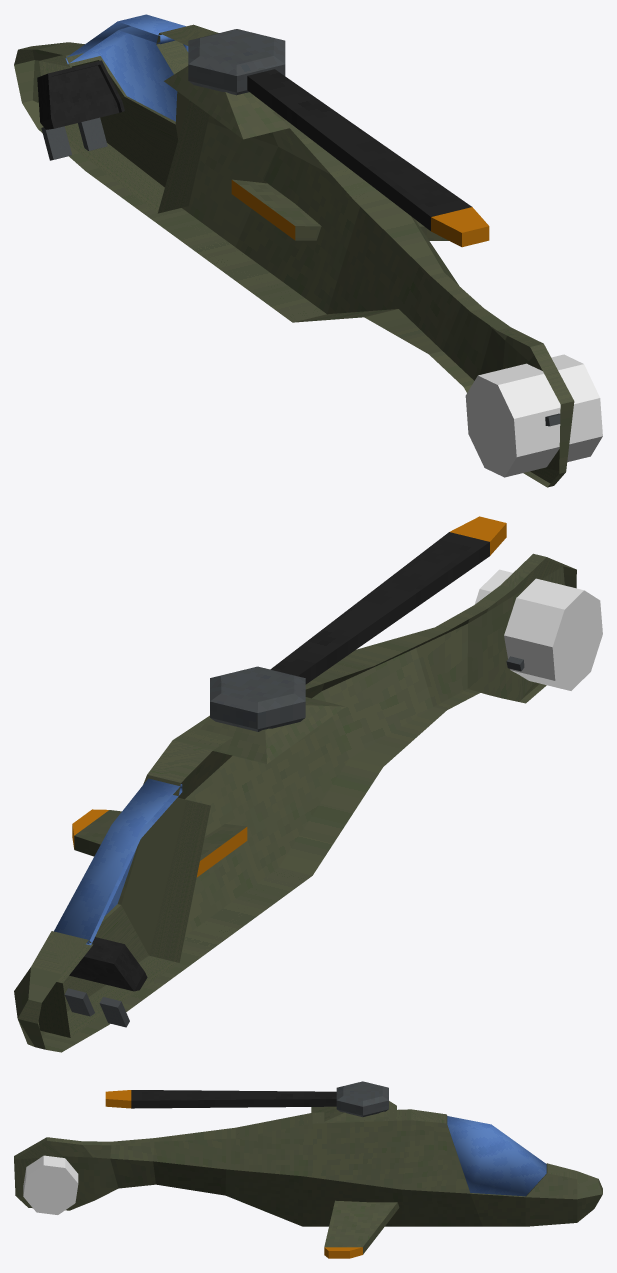
File: Helicopter.glb
The picture shows the model from 3 angles, top to bottom: view 1: azimuth 30°, elevation 25°; view 2: azimuth 150°, elevation 25°; view 3: azimuth 270°, elevation 25°; orthographic projection. The views are drawn at different scales.
Parts seen in each view (by area): view 1: body, cylinder.001, blade, canopy, rotor, Cube.003, plate, wing, Cube.002, Cube.004; view 2: body, blade, cylinder.001, canopy, rotor, plate, wing, Cube.003; view 3: body, canopy, blade, wing, cylinder.001, rotor, plate.
Part boxes in pixels (x1=…): body: x1=14, y1=24, x2=574, y2=487; cylinder.001: x1=465, y1=354, x2=602, y2=477; blade: x1=247, y1=69, x2=489, y2=247; canopy: x1=65, y1=14, x2=188, y2=121; rotor: x1=188, y1=29, x2=285, y2=95; Cube.003: x1=37, y1=60, x2=124, y2=129; plate: x1=164, y1=66, x2=289, y2=139; wing: x1=231, y1=179, x2=448, y2=240; Cube.002: x1=41, y1=126, x2=71, y2=160; Cube.004: x1=78, y1=117, x2=107, y2=150; body: x1=14, y1=553, x2=576, y2=1052; blade: x1=270, y1=516, x2=506, y2=684; cylinder.001: x1=474, y1=569, x2=602, y2=690; canopy: x1=54, y1=778, x2=182, y2=945; rotor: x1=210, y1=666, x2=305, y2=731; plate: x1=200, y1=697, x2=344, y2=763; wing: x1=72, y1=809, x2=247, y2=877; Cube.003: x1=69, y1=937, x2=147, y2=991; body: x1=14, y1=1109, x2=602, y2=1226; canopy: x1=447, y1=1116, x2=546, y2=1196; blade: x1=105, y1=1090, x2=336, y2=1108; wing: x1=324, y1=1200, x2=399, y2=1258; cylinder.001: x1=23, y1=1155, x2=78, y2=1214; rotor: x1=336, y1=1081, x2=388, y2=1117; plate: x1=311, y1=1101, x2=396, y2=1121.
Bounding box in the file's own units: 2.25 × 2.04 × 8.58.
Materials: 7 (6 with a texture image).
